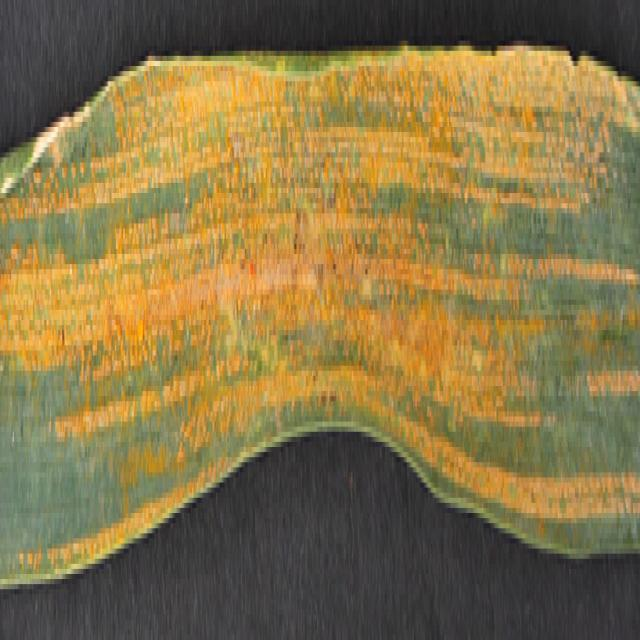leaf rust: (1, 66, 640, 579)
